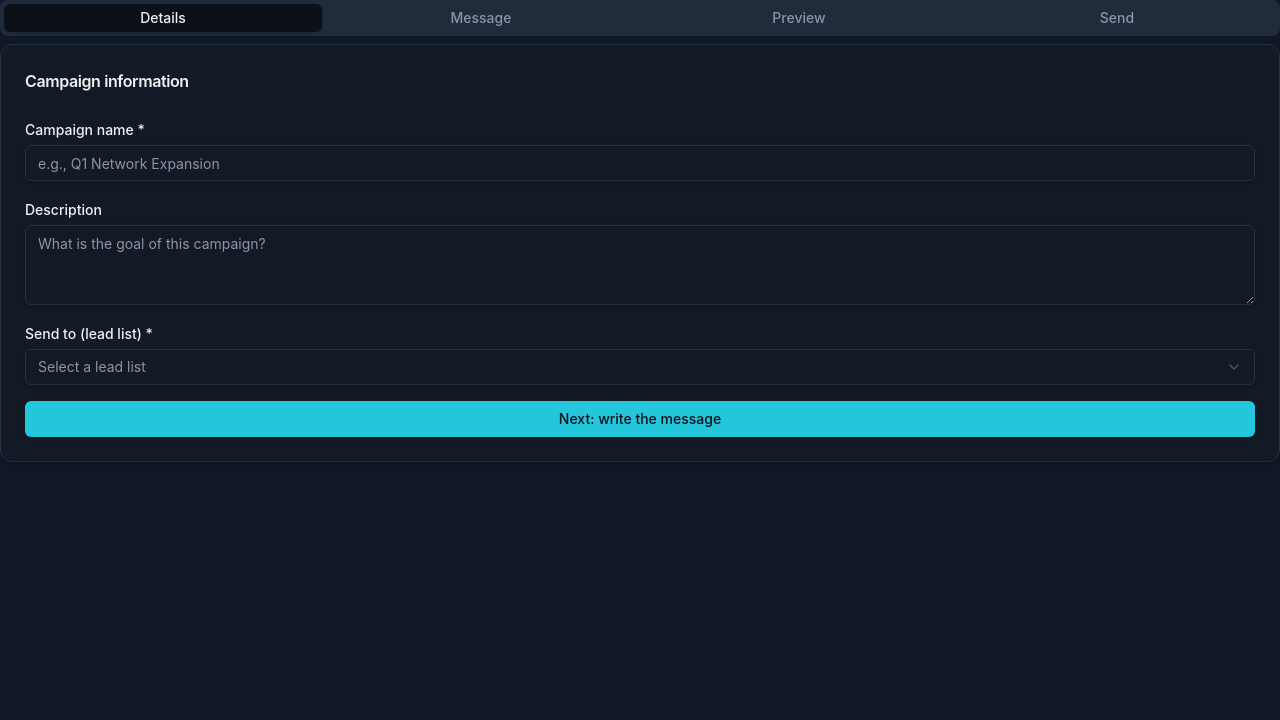
Test: CampaignBuilder › renders the Message step with merge-field hints as text
Click the button "Next: write the message".
click(640, 419)  # box [25,401,1255,437]
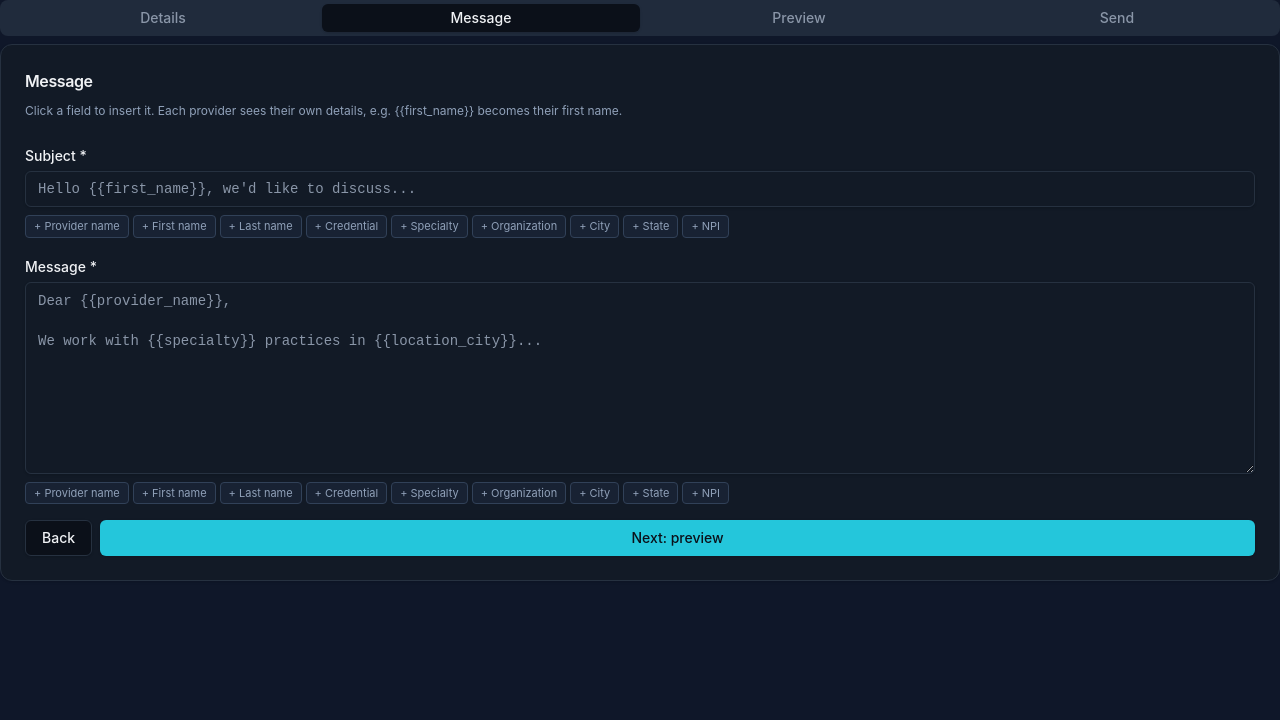
expect the text "e.g. {{first_name}} becomes their first name" is shown: met, box [25,103,622,118]
expect the button "+ First name" below "Subject *" is shown: met, box [133,215,216,238]
